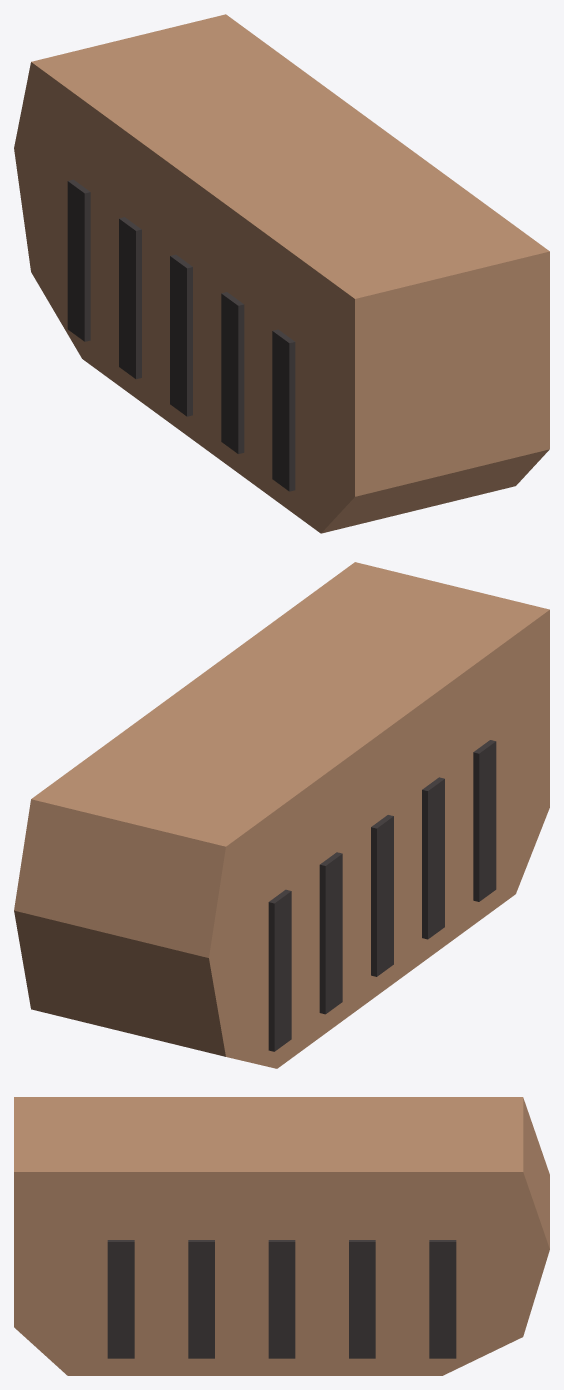
File: drum_pistol_forend.glb
The picture shows the model from 3 angles, top to bottom: view 1: azimuth 30°, elevation 25°; view 2: azimuth 150°, elevation 25°; view 3: azimuth 270°, elevation 25°; orthographic projection. The views are drawn at different scales.
Parts seen in each view (by area): view 1: forend; view 2: forend; view 3: forend.
Part boxes in pixels (<box>): forend: <box>14,14,549,533</box>; forend: <box>14,562,549,1068</box>; forend: <box>14,1097,549,1375</box>.
Bounding box in the file's own units: 0.035 × 0.042 × 0.1.
